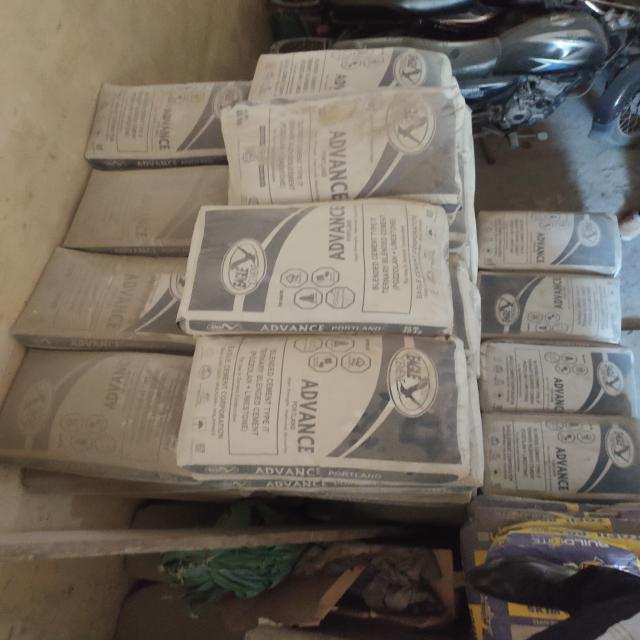Cement: (195, 335, 462, 466), (206, 211, 463, 326), (222, 103, 465, 193), (23, 347, 172, 457), (33, 254, 172, 335), (77, 172, 215, 253), (94, 80, 232, 161), (484, 208, 625, 276), (481, 268, 622, 336), (493, 342, 634, 410), (492, 418, 633, 486), (258, 48, 431, 100)
